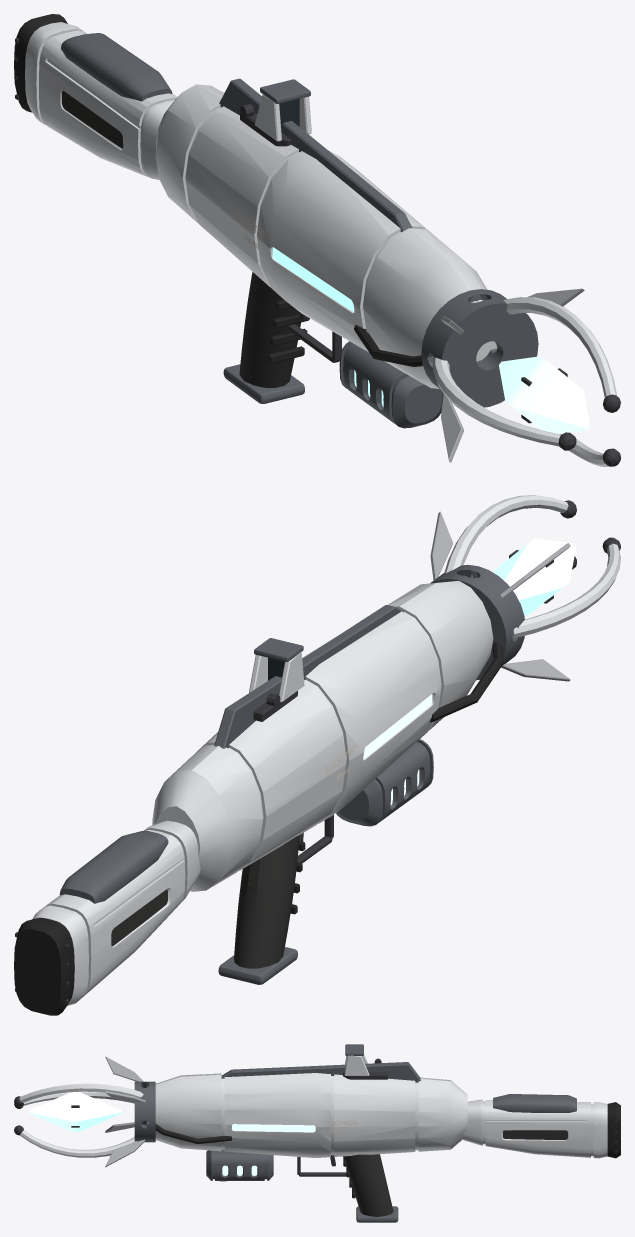
Rendered from reflectron.glb.
3 renders of one model, top to bottom at view 1: azimuth 30°, elevation 25°; view 2: azimuth 150°, elevation 25°; view 3: azimuth 270°, elevation 25°, orthographic. The views are drawn at different scales.
Parts seen in each view (by area): view 1: Body; view 2: Body; view 3: Body.
Boxes of the visible parts, x1=… form: Body: x1=14, y1=14, x2=620, y2=466; Body: x1=14, y1=495, x2=620, y2=1015; Body: x1=14, y1=1044, x2=620, y2=1222.
Size of the model in its own units: 0.1047 by 0.2209 by 0.72.
